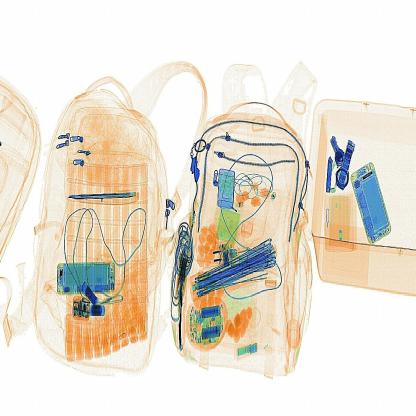pliers: (68, 190, 148, 210)
